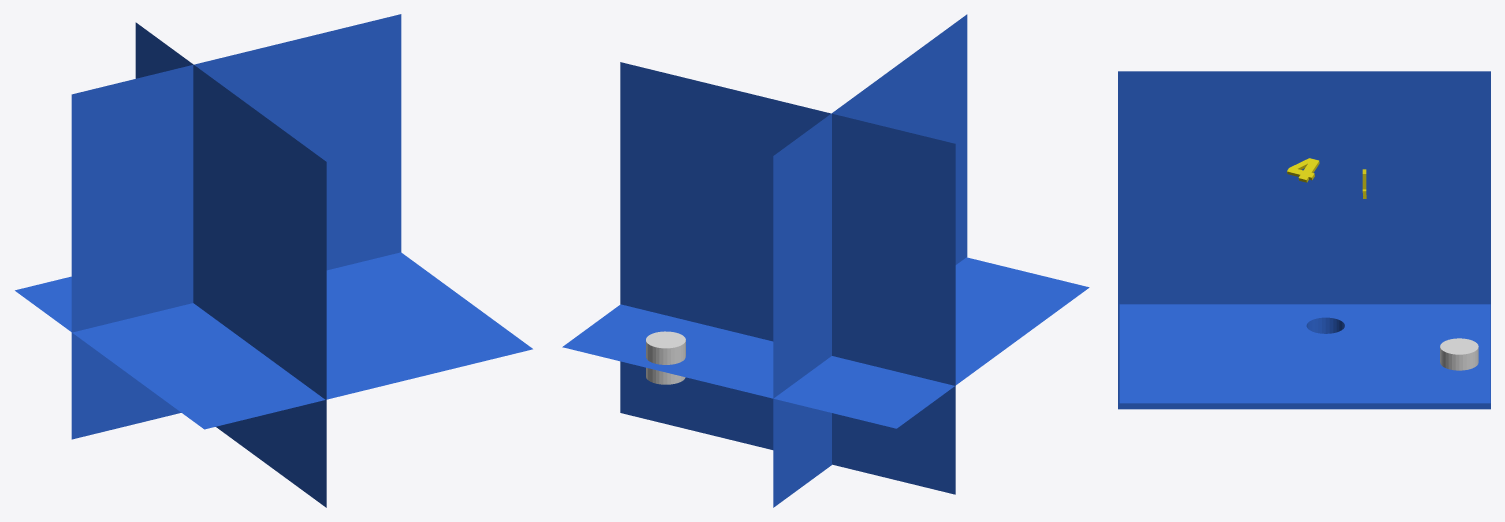
File: 404error.glb
The picture shows the model from 3 angles, left to right: view 1: azimuth 30°, elevation 25°; view 2: azimuth 150°, elevation 25°; view 3: azimuth 270°, elevation 25°; orthographic projection. The views are drawn at different scales.
Visible parts, largest first — view 1: Plane.001, Plane.002, Floor; view 2: Plane.001, Plane.002, Floor, Cylinder; view 3: Plane.002, Floor, Cylinder, Text.
Boxes of the visible parts, x1,y1,x2,y2 form: Plane.001: (71, 14, 401, 439); Plane.002: (135, 22, 326, 507); Floor: (15, 252, 532, 429); Plane.001: (620, 62, 955, 494); Plane.002: (773, 14, 967, 507); Floor: (562, 257, 1089, 428); Cylinder: (646, 331, 685, 384); Plane.002: (1118, 71, 1490, 409); Floor: (1119, 304, 1490, 403); Cylinder: (1440, 338, 1478, 370); Text: (1287, 158, 1319, 182).
Bounding box in the file's own units: 18.8 × 18.85 × 18.85.
